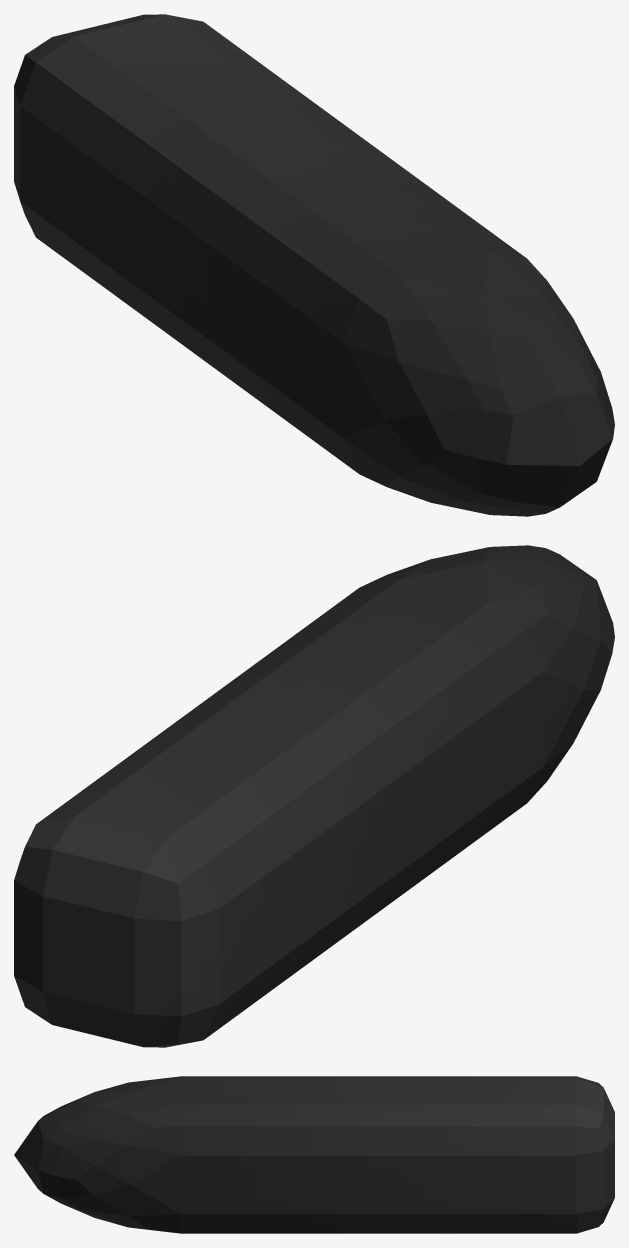
Rendered from Projectile.glb.
The picture shows the model from 3 angles, top to bottom: view 1: azimuth 30°, elevation 25°; view 2: azimuth 150°, elevation 25°; view 3: azimuth 270°, elevation 25°; orthographic projection. The views are drawn at different scales.
Visible parts, largest first — view 1: Cube; view 2: Cube; view 3: Cube.
Boxes of the visible parts, x1,y1,x2,y2 form: Cube: (14,14,614,516); Cube: (14,545,614,1047); Cube: (14,1076,614,1233).
Bounding box in the file's own units: 2 × 2 × 8.55.
1 material, 1 textured.
